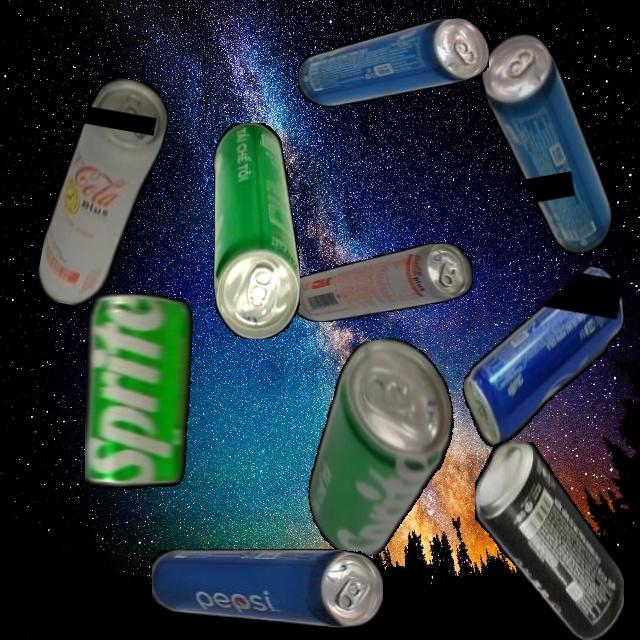debris: (284, 329, 475, 564), (454, 249, 631, 465), (34, 70, 174, 316), (476, 24, 618, 264), (474, 441, 624, 640), (85, 292, 227, 490), (212, 122, 300, 339), (151, 549, 383, 628), (297, 18, 489, 107), (281, 242, 473, 322)
